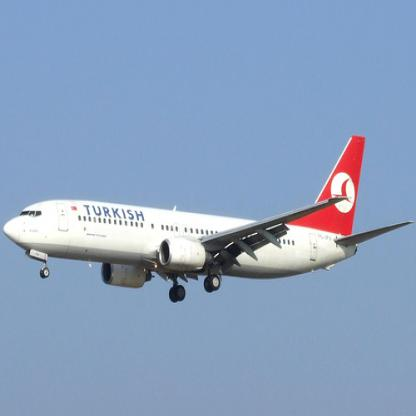aeroplane: (1, 133, 413, 303)
